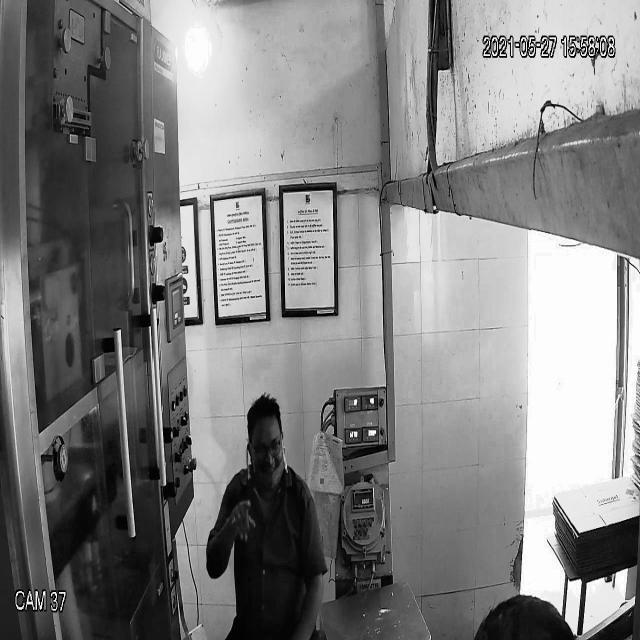glasses: (246, 433, 286, 468)
